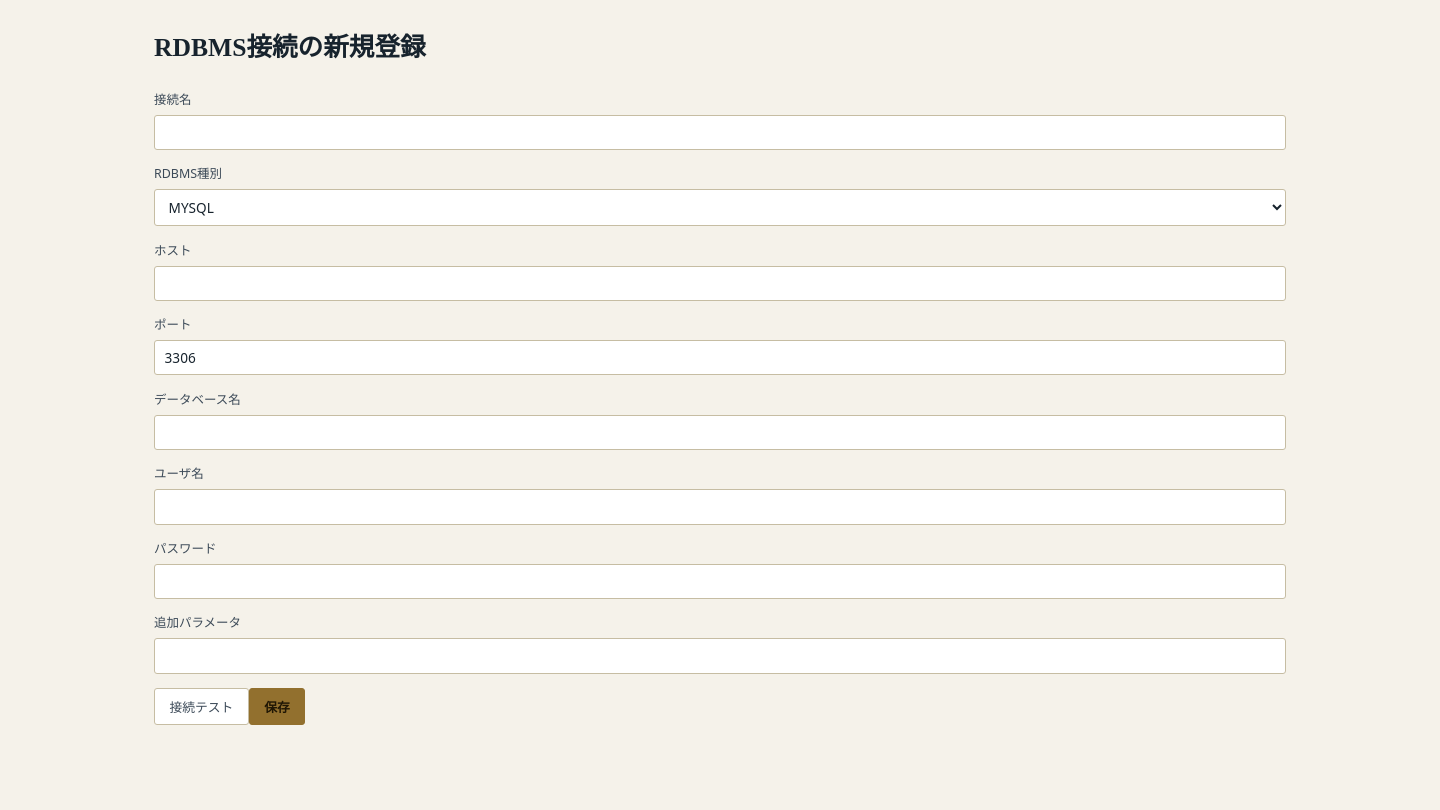
Test: ConnectionFormPage › shows a failure message with the reason when the connection test fails
Type "new-connection" into the field with test id "connection-form-page-name-input" at {"x": 720, "y": 132}, box [154,114,1286,150]
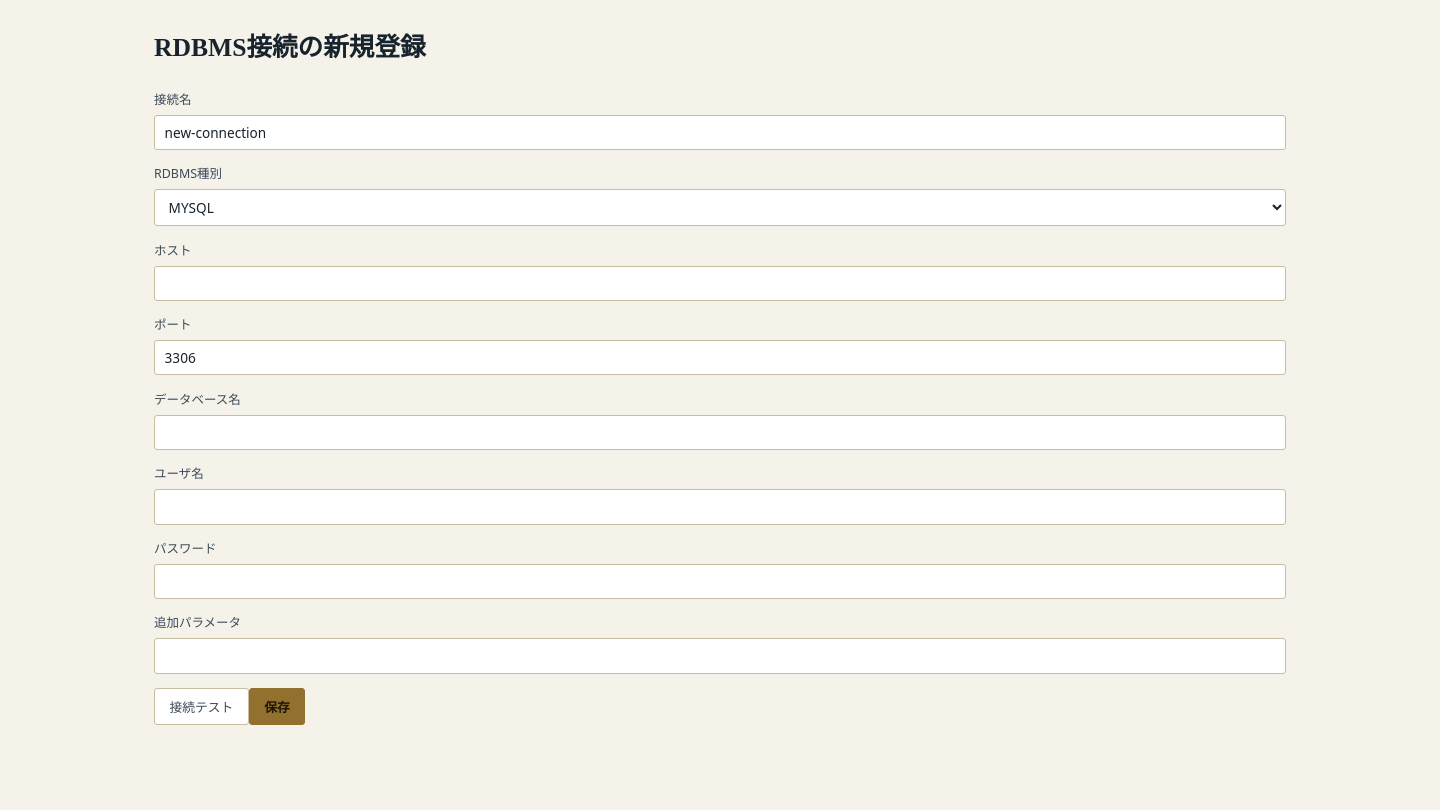
Type "new-host" into the field with test id "connection-form-page-host-input" at {"x": 720, "y": 283}, box [154,266,1286,301]
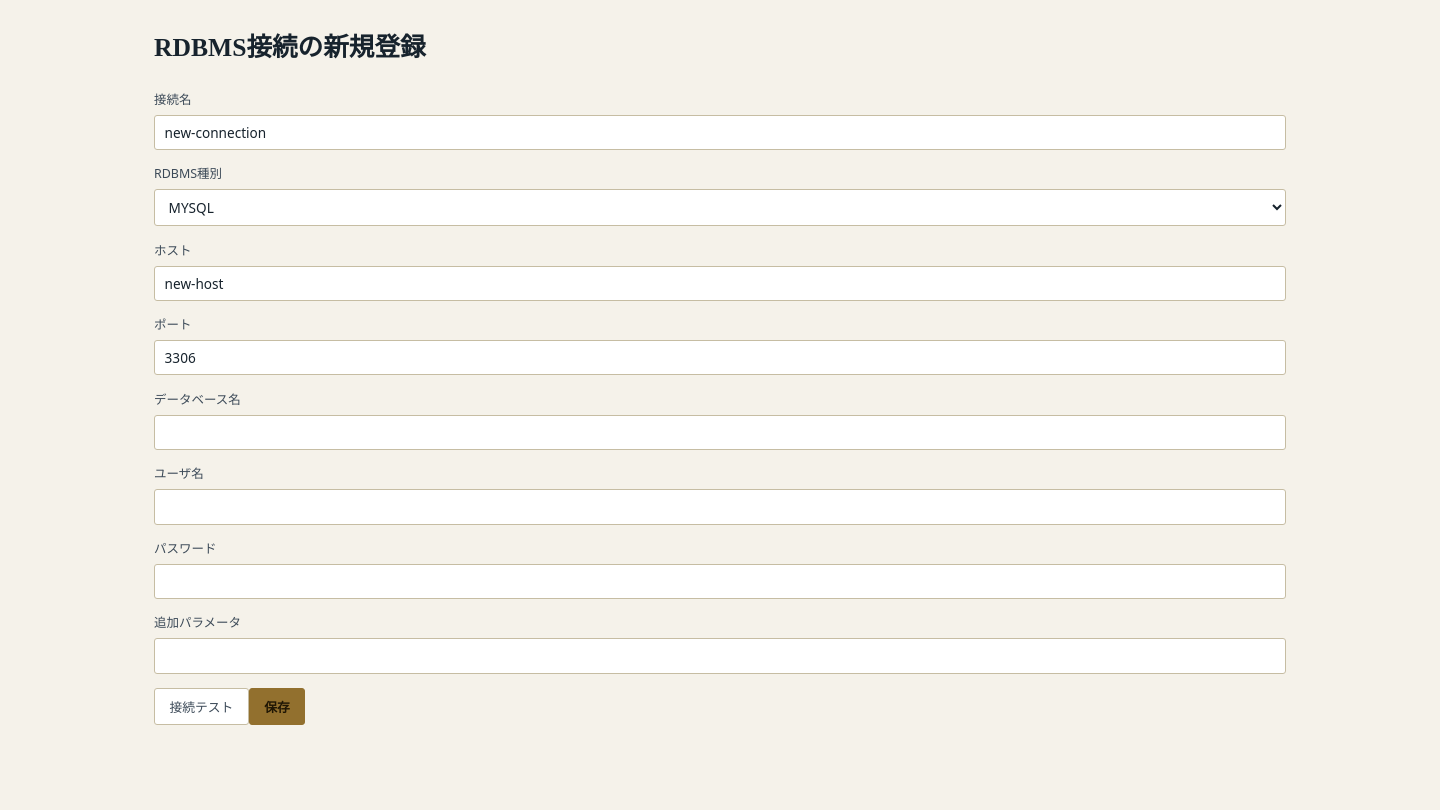
Type "new-db" into the field with test id "connection-form-page-database-name-input" at {"x": 720, "y": 432}, box [154,415,1286,450]
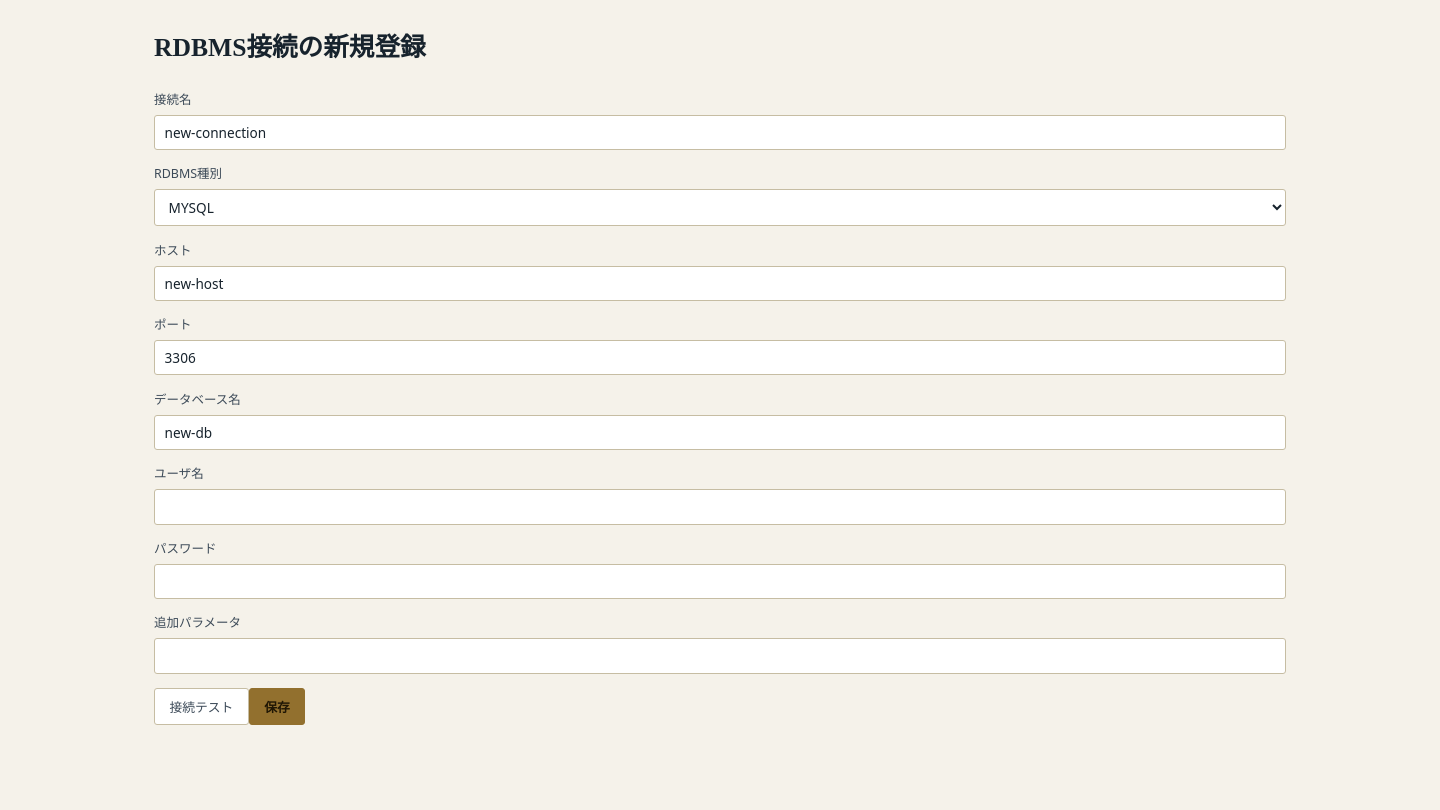
Type "new-user" into the field with test id "connection-form-page-username-input" at {"x": 720, "y": 507}, box [154,489,1286,525]
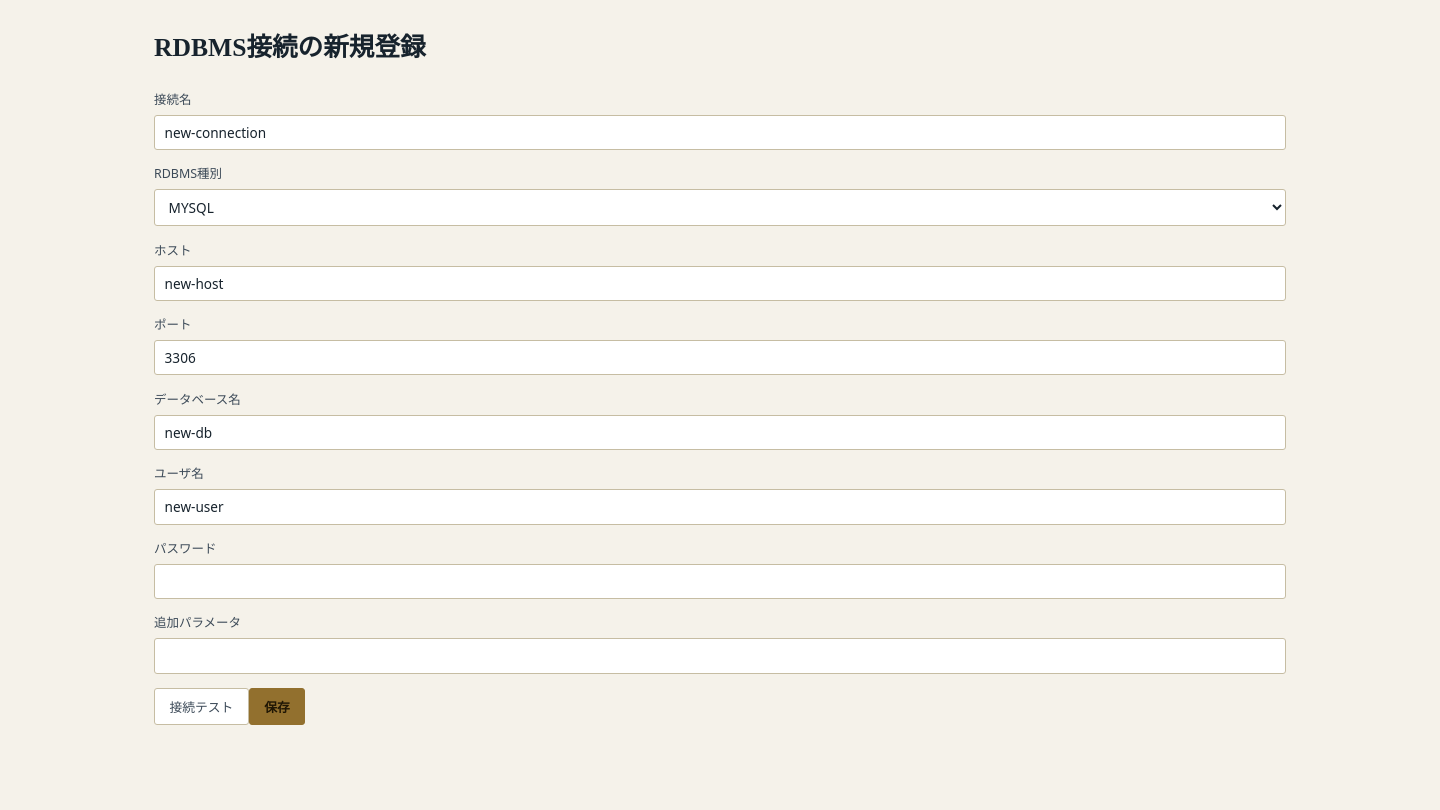
Type "new-password" into the password field with test id "connection-form-page-password-input" at {"x": 720, "y": 581}, box [154,564,1286,599]
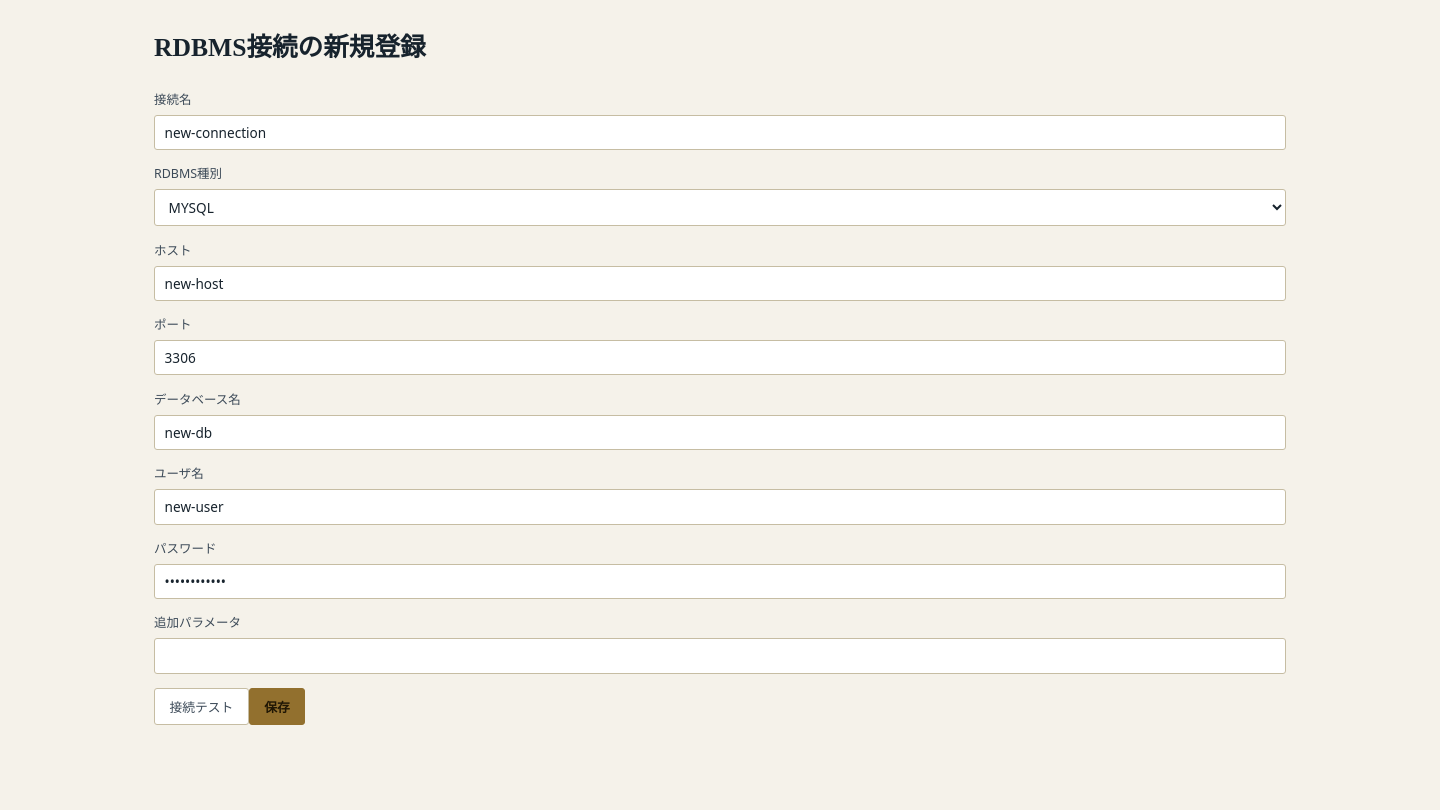
Click the button with test id "connection-form-page-test-button" at {"x": 201, "y": 706}, box [154,688,249,725]
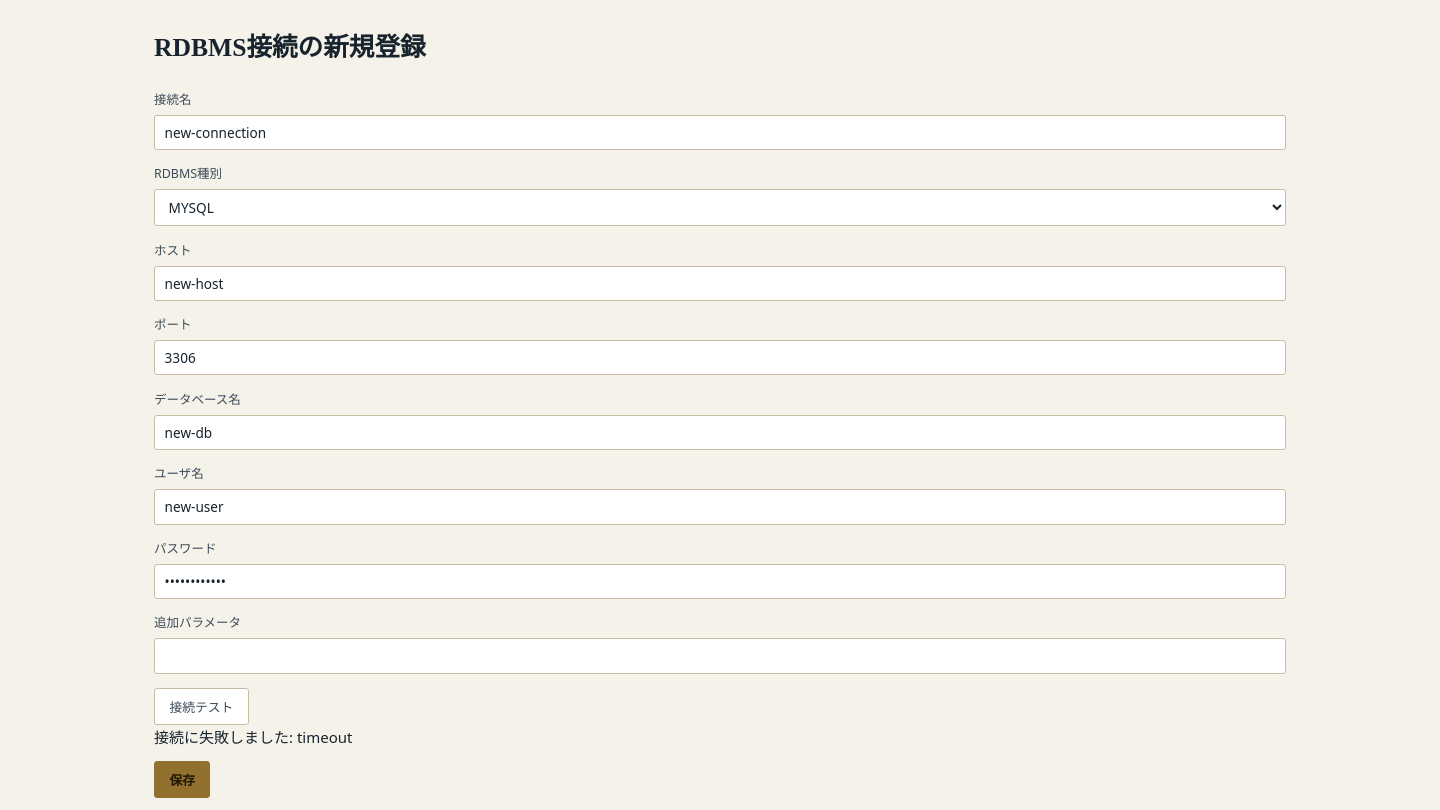
expect the text with test id "connection-form-page-test-result-message" reads "接続に失敗しました: timeout": met, box [154,727,352,747]
